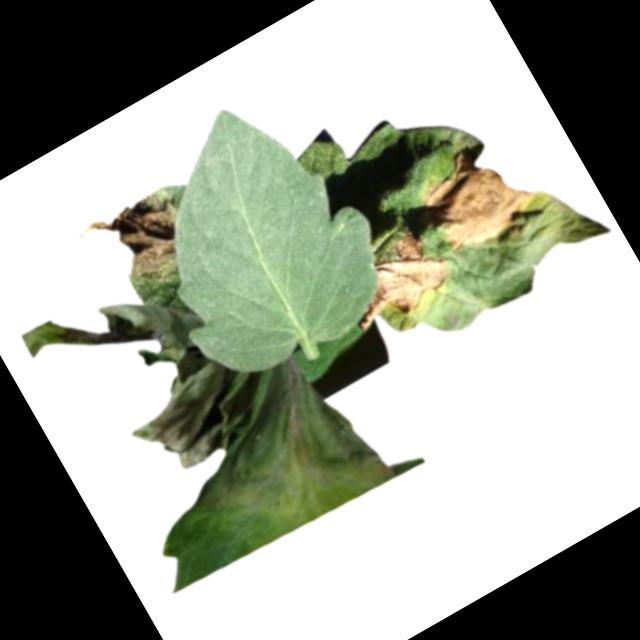Late_blight: (14, 253, 269, 517), (155, 339, 395, 569), (405, 126, 548, 267), (75, 179, 202, 302), (329, 222, 458, 339)
healthy: (98, 73, 411, 402)
